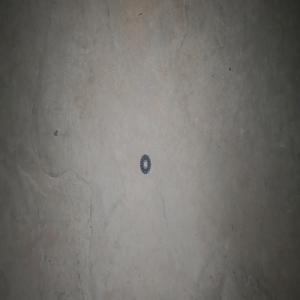Washer: (139, 154, 151, 174)
